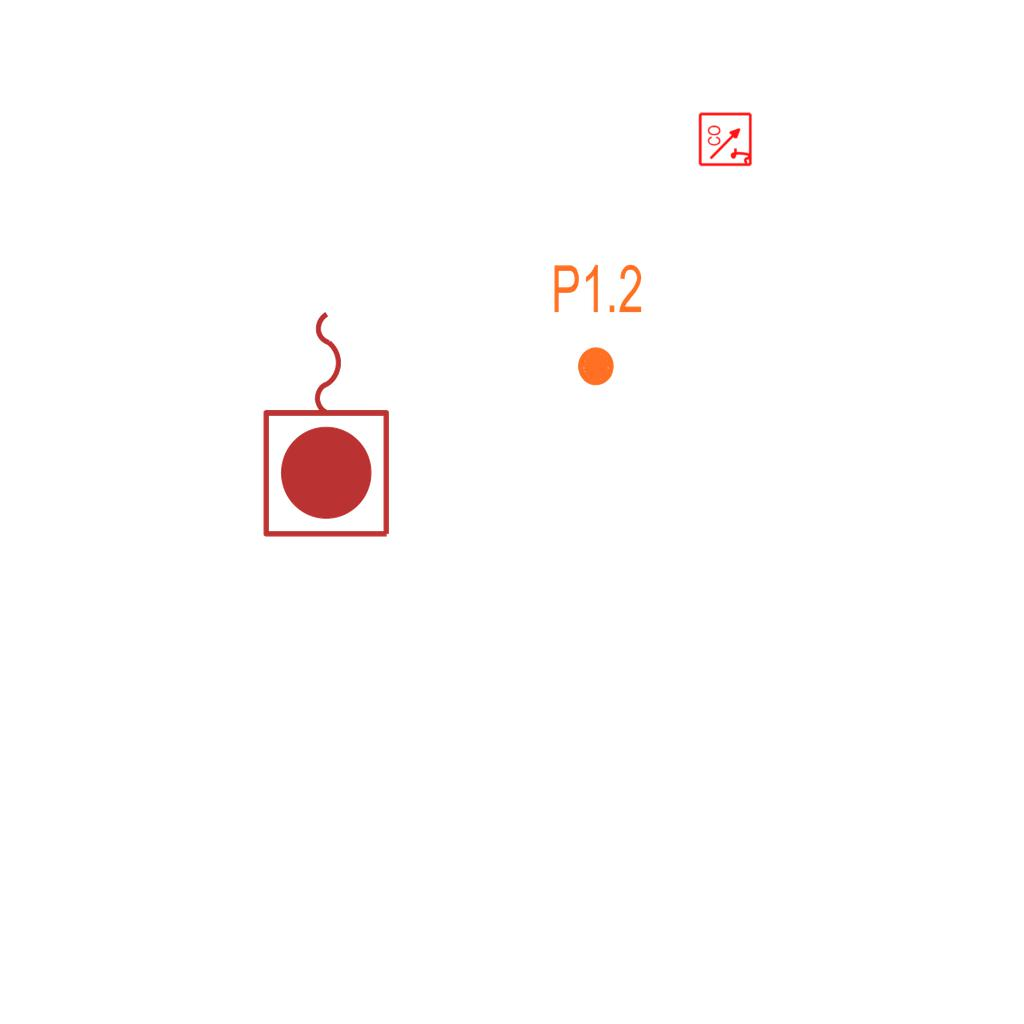Downlight_LED_Einbauleuchten_Flur: (551, 261, 644, 389)
ROA_Rauchmelder_optisch_mit_Signalgeber_(Sockelsirene): (698, 111, 754, 167)
Zugtaster: (256, 301, 400, 545)
